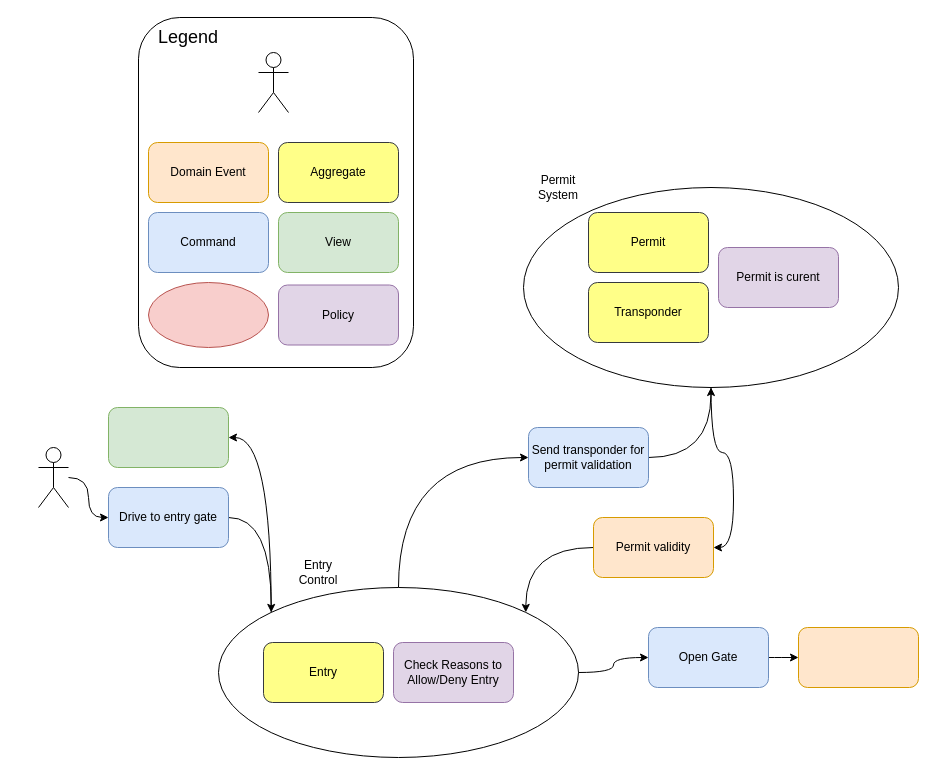
Image size: 936x775. Some labels were removed from this diagram. Each missing label, with the box of its shape:
Actor: (258, 52, 288, 112)
Entry Denial Reason: (108, 406, 228, 468)
External System: (148, 282, 268, 348)
Gate Opens: (798, 626, 918, 688)
Permit Holder: (38, 446, 68, 508)
